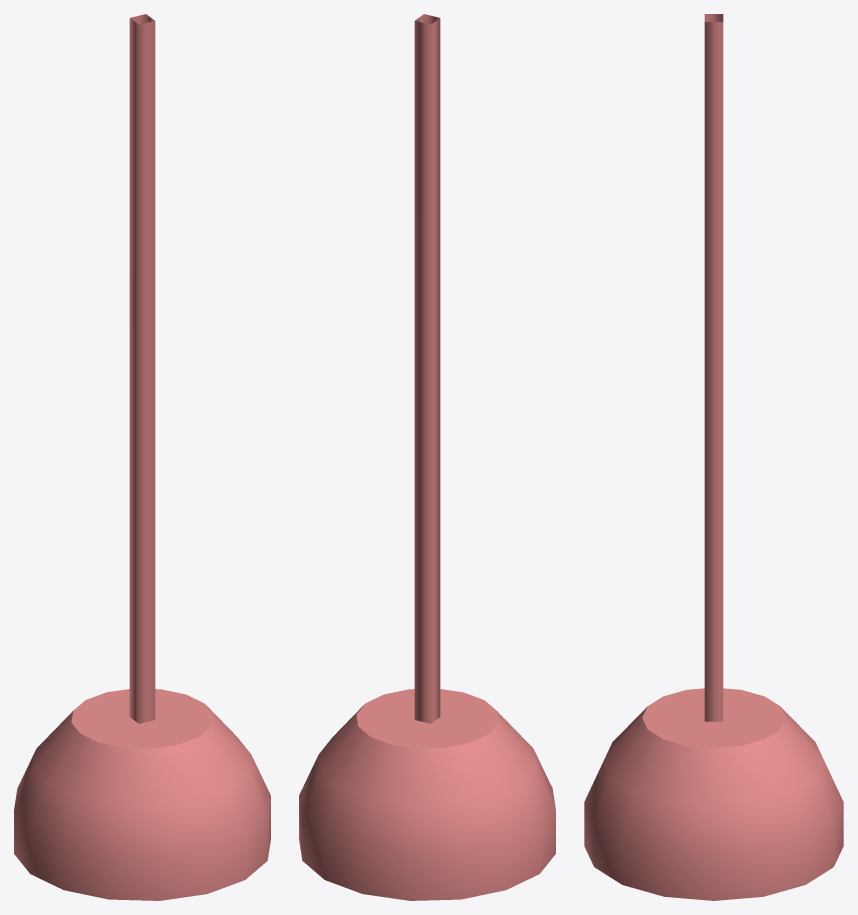
Rendered from Lamp.fbx.
The picture shows the model from 3 angles, left to right: view 1: azimuth 30°, elevation 25°; view 2: azimuth 150°, elevation 25°; view 3: azimuth 270°, elevation 25°; orthographic projection.
Visible parts, largest first — view 1: Lamp; view 2: Lamp; view 3: Lamp.
Boxes of the visible parts, box(x1,y1,x2,y2) form: Lamp: box(14, 14, 270, 900); Lamp: box(299, 14, 555, 900); Lamp: box(584, 14, 843, 900).
Size of the model in its own units: 1 by 3.57 by 1.
